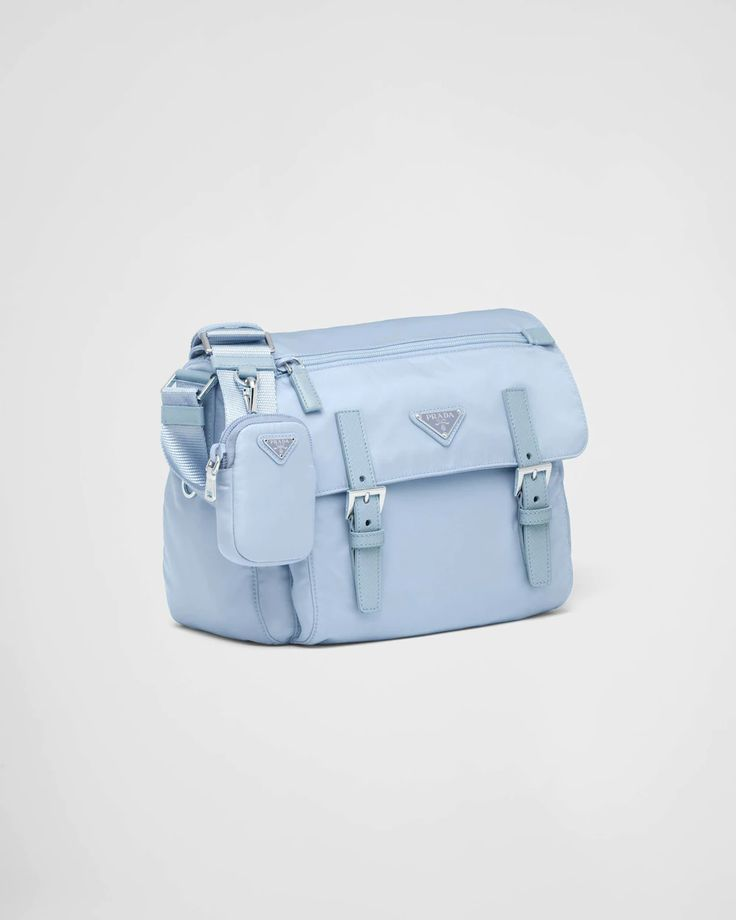nylon: (161, 307, 589, 648)
